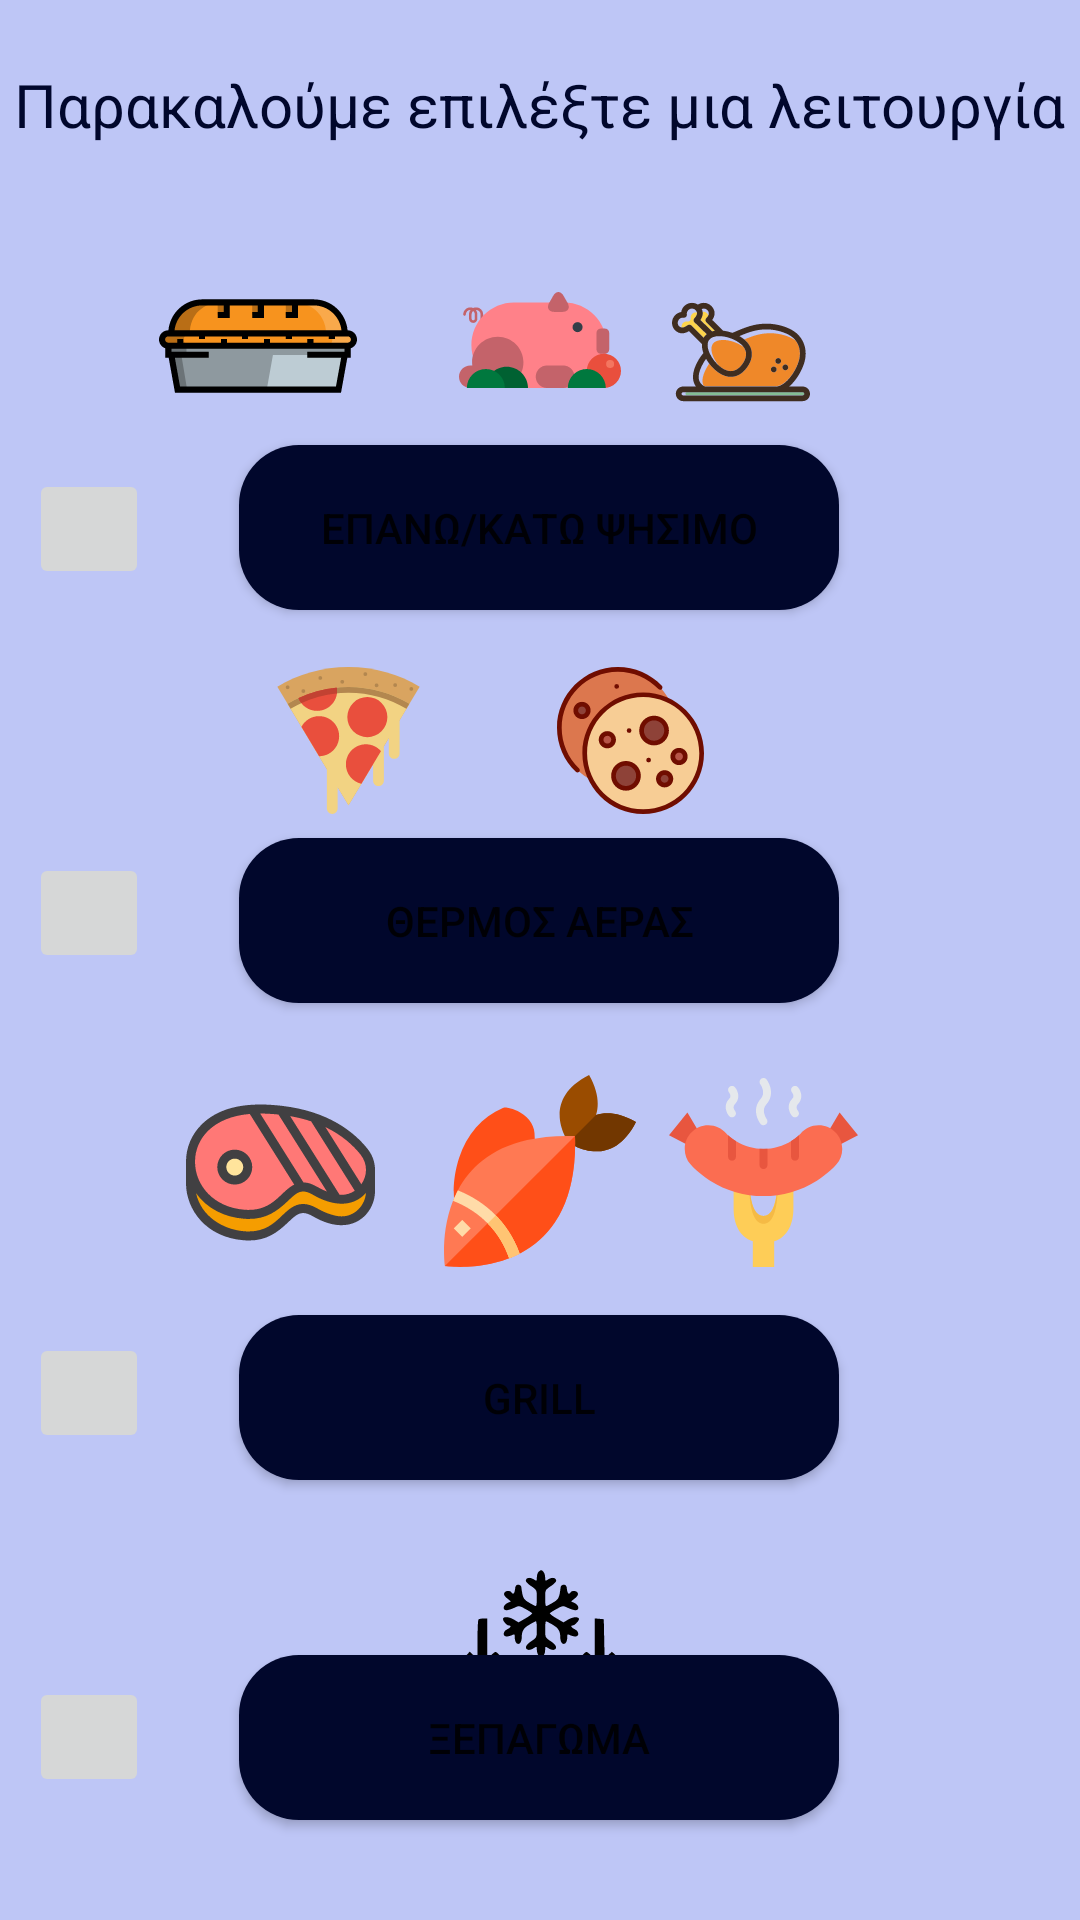

Locate icon controls on the screen. Image size 1080px x 1920px, boxes as (x1, y1, x2, y2).
chicken: (672, 302, 810, 402)
cookies: (557, 667, 704, 814)
fish: (444, 1075, 636, 1267)
pie: (159, 299, 357, 393)
pizza: (277, 667, 420, 814)
pork: (459, 292, 621, 388)
sausage: (669, 1078, 858, 1267)
steak: (186, 1104, 375, 1241)
